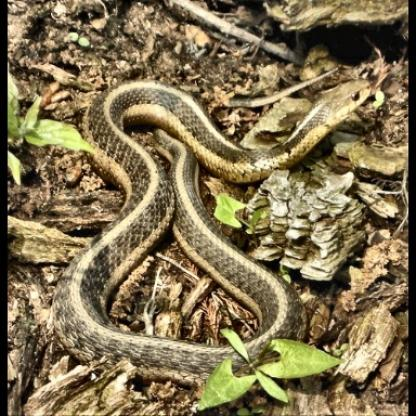Snake: (49, 76, 405, 388)
